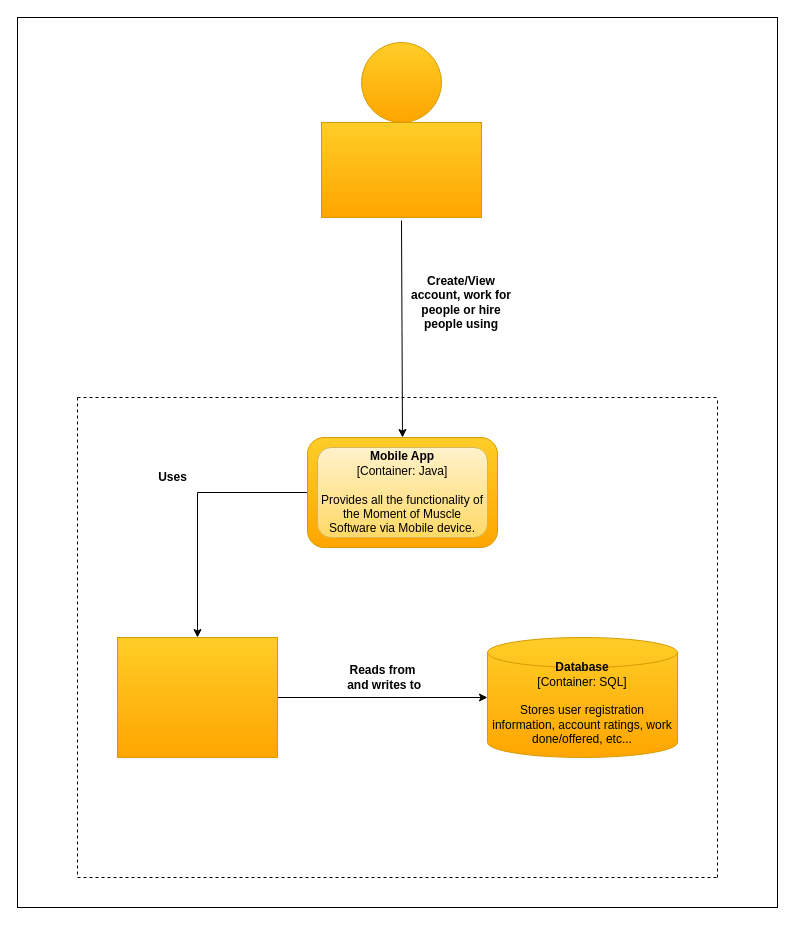
The diagram is 795 pixels wide and 925 high, and some of its shapes have lost their labels. The shapes that lost their labels are listed below. From the top down, each one's box as (x1, y1, x2, y2) in pixels, then its label:
(320, 122, 482, 218): Moment of Muscle User [Person] Create an account, being able to work or hire
(116, 636, 278, 758): JTDS Library [Container: Java] Provides Access to the database.
